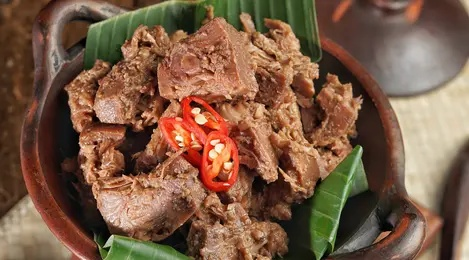gudeg: (77, 46, 361, 260)
